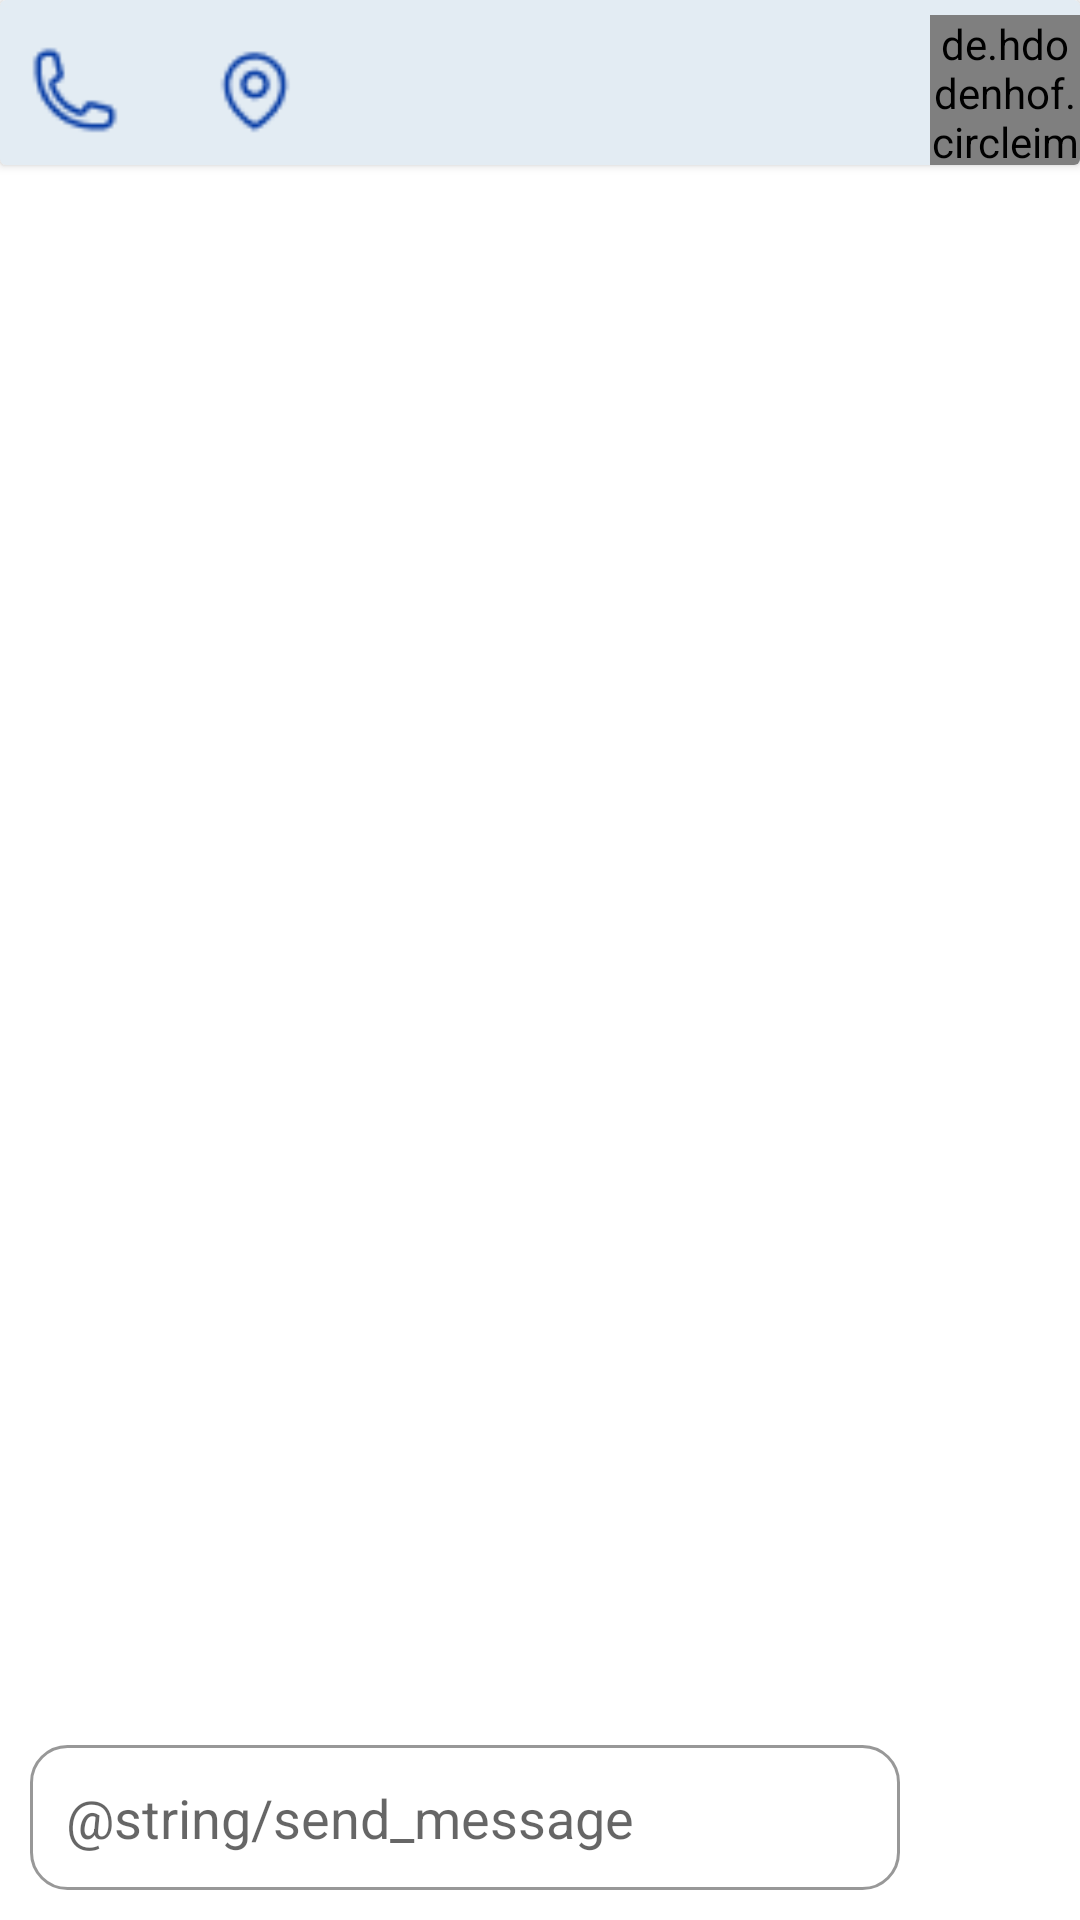

Icon bounding boxes for this 1080×1920 phone screenshot, format [x1=x1, y1=y1, x2=x2, y2=y2]:
map: [x1=221, y1=51, x2=289, y2=132]
phone: [x1=33, y1=48, x2=117, y2=132]
